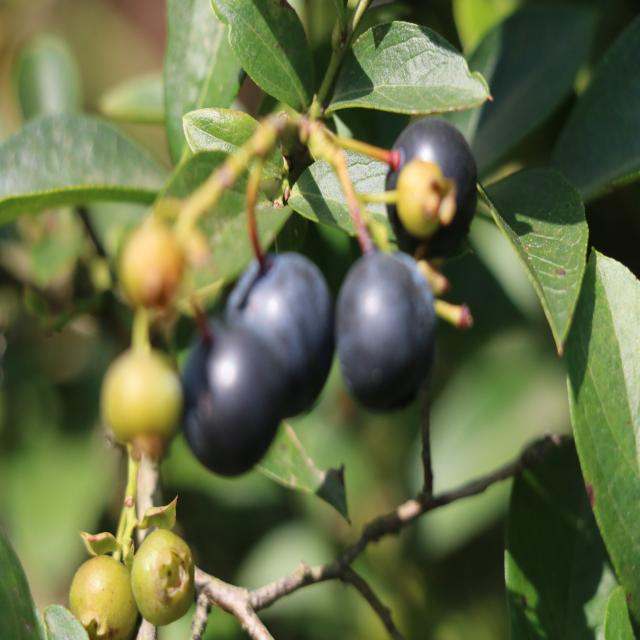blueberry: (237, 246, 338, 415), (336, 244, 431, 404), (178, 328, 278, 474), (391, 122, 481, 255)
blueberry-unripe: (100, 345, 182, 449), (127, 526, 197, 628), (68, 553, 143, 640), (114, 219, 181, 309), (398, 158, 444, 236)
